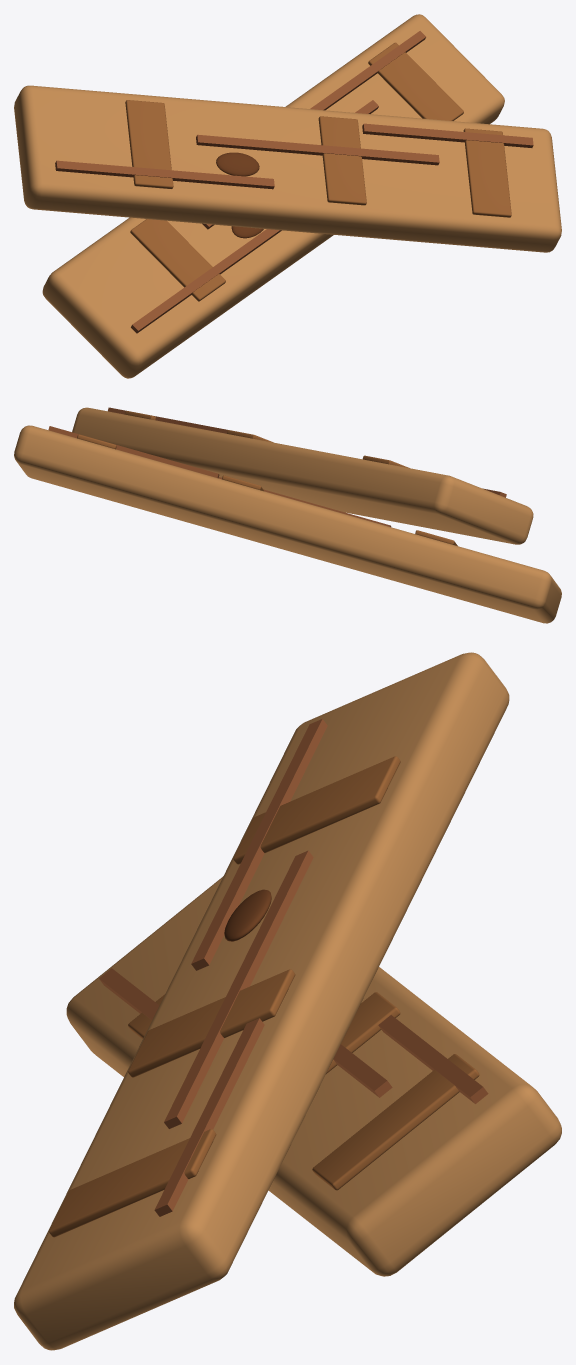
Rendered from mat_pineplank.glb.
3 renders of one model, top to bottom at view 1: azimuth 30°, elevation 25°; view 2: azimuth 150°, elevation 25°; view 3: azimuth 270°, elevation 25°, orthographic. The views are drawn at different scales.
Visible parts, largest first — view 1: _box; view 2: _box; view 3: _box.
Part boxes in pixels (bbox=[...]): _box: bbox=[14, 14, 561, 378]; _box: bbox=[14, 407, 561, 623]; _box: bbox=[14, 652, 561, 1350].
Bounding box in the file's own units: 1.11 × 0.4763 × 0.589.
